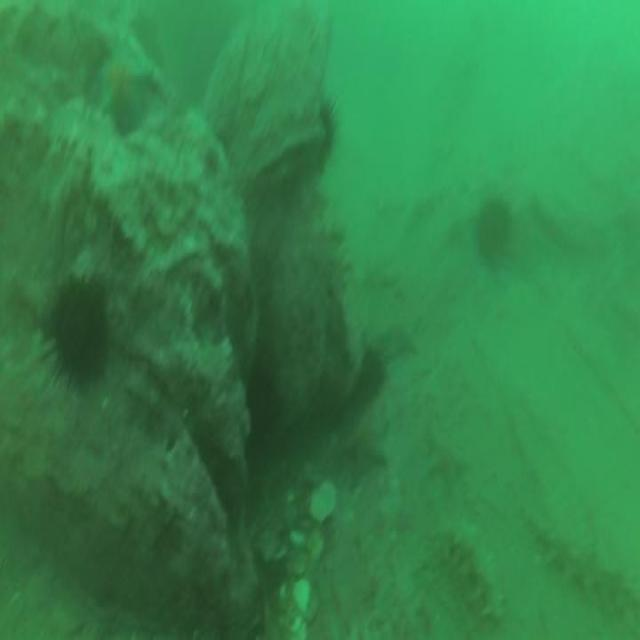echinus: (47, 282, 107, 382), (478, 201, 508, 259), (250, 378, 280, 433), (356, 352, 384, 403)
holothurian: (526, 509, 640, 624), (430, 513, 503, 618)
scallop: (308, 479, 338, 523)
starfish: (100, 42, 150, 110)
